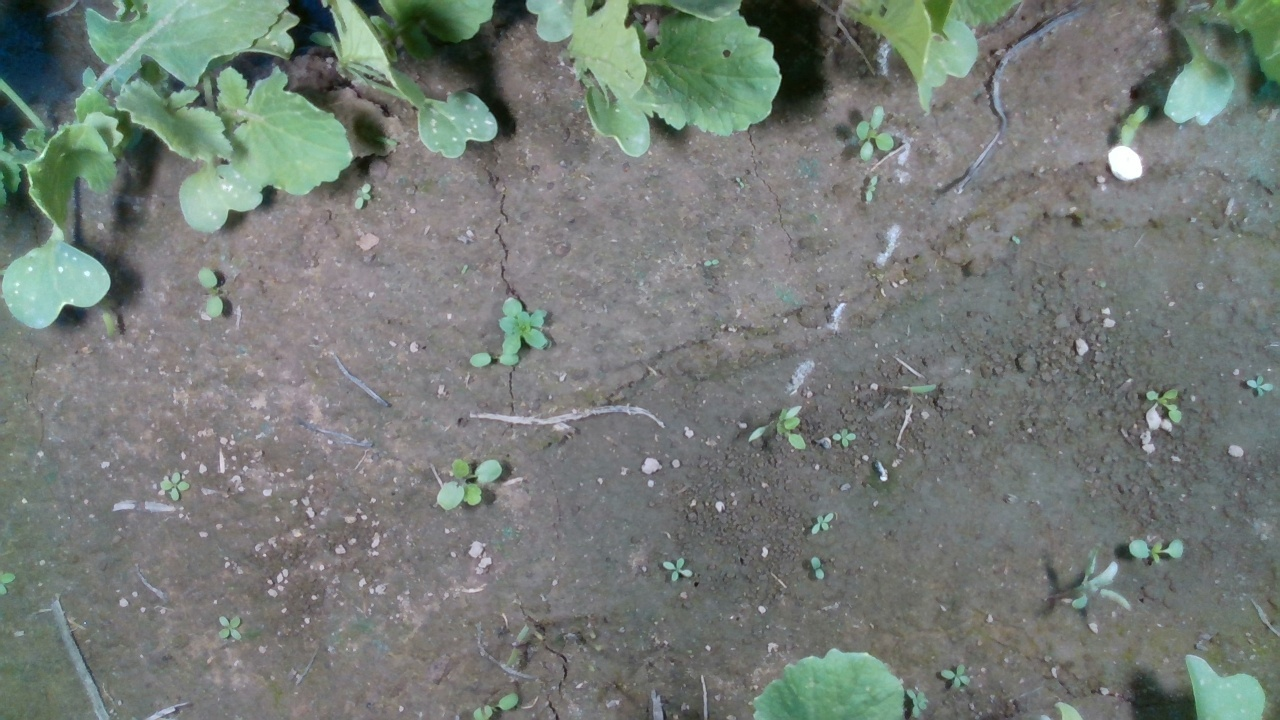weed: (435, 455, 504, 513), (853, 105, 896, 161), (1128, 538, 1185, 566), (195, 265, 224, 319), (1119, 104, 1151, 148), (156, 471, 191, 503), (937, 663, 972, 689), (660, 554, 693, 581), (217, 615, 244, 642), (1245, 373, 1273, 397), (353, 181, 373, 210), (831, 425, 855, 448), (809, 511, 833, 534), (864, 172, 879, 206), (811, 555, 824, 580)
